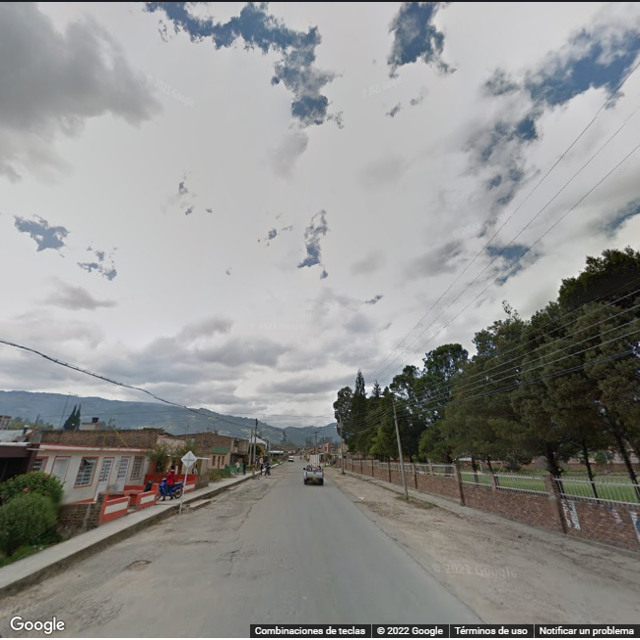D00: (223, 548, 239, 582)
D20: (73, 594, 114, 633)
D40: (115, 553, 155, 574)
